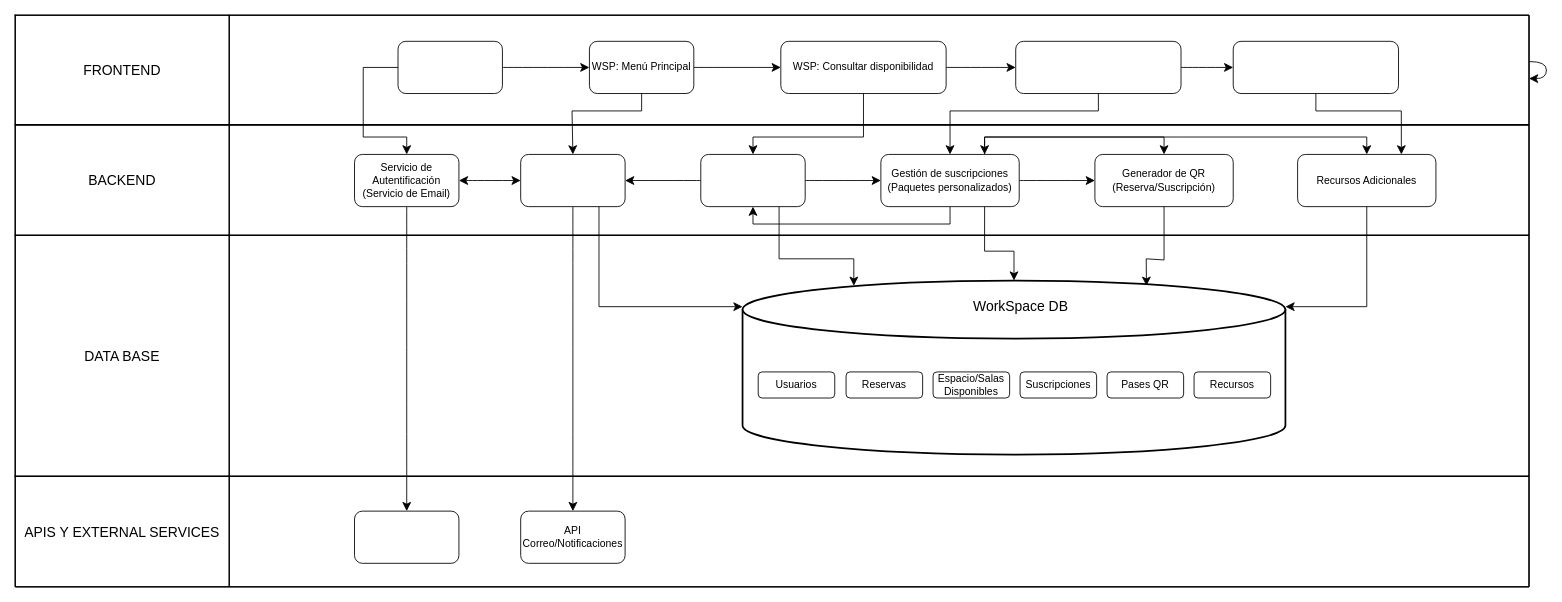
The diagram is 1562 pixels wide and 602 high, and some of its shapes have lost their labels. Each missing label, with the centre of its shape:
"API de pasarela de pagos (tarjeta debito/credito)" belongs at (x=406, y=536).
"Controlador de aforo (capacidad de salas/espacios)" belongs at (x=752, y=180).
"Gestión de reservas" belongs at (x=572, y=180).
"WSP: Formulario de Reserva" belongs at (x=1098, y=67).
"WSP: LogIn" belongs at (x=449, y=67).
"WSP: Realizar pagos" belongs at (x=1315, y=67).
